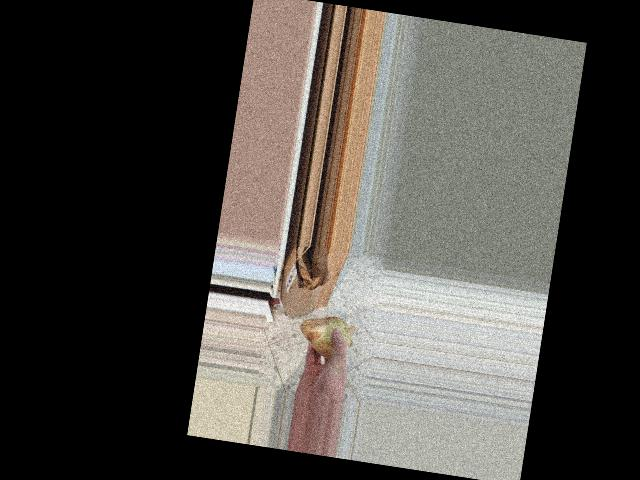onion: (298, 307, 358, 365)
